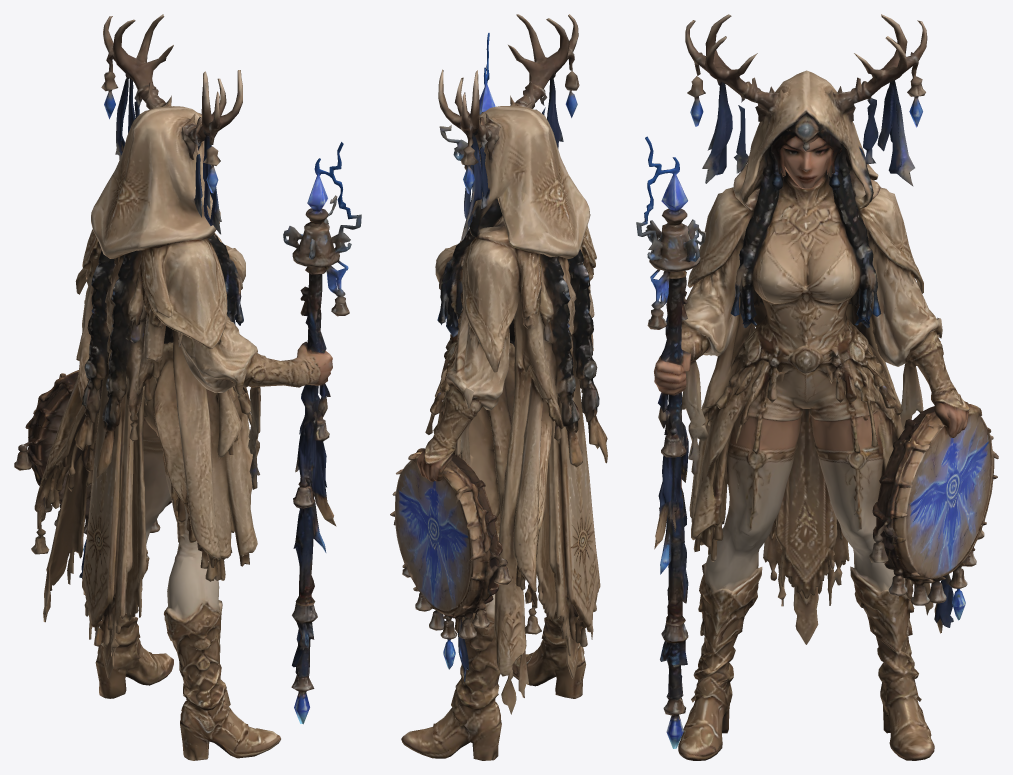
File: drumcaller-MirageVeil-tripo.glb
3 views of the same model, side by side, from view 1: azimuth 30°, elevation 25°; view 2: azimuth 150°, elevation 25°; view 3: azimuth 270°, elevation 25° (orthographic). The views are drawn at different scales.
Visible parts, largest first — view 1: tripo_node_3bff0f39-45c9-4eab-89b8-f75e24bfa905; view 2: tripo_node_3bff0f39-45c9-4eab-89b8-f75e24bfa905; view 3: tripo_node_3bff0f39-45c9-4eab-89b8-f75e24bfa905.
Part boxes in pixels (<box>): tripo_node_3bff0f39-45c9-4eab-89b8-f75e24bfa905: <box>14,14,361,760</box>; tripo_node_3bff0f39-45c9-4eab-89b8-f75e24bfa905: <box>390,14,607,760</box>; tripo_node_3bff0f39-45c9-4eab-89b8-f75e24bfa905: <box>636,14,998,760</box>.
Size of the model in its own units: 0.3159 by 1 by 0.4538.
1 material, 1 textured.
